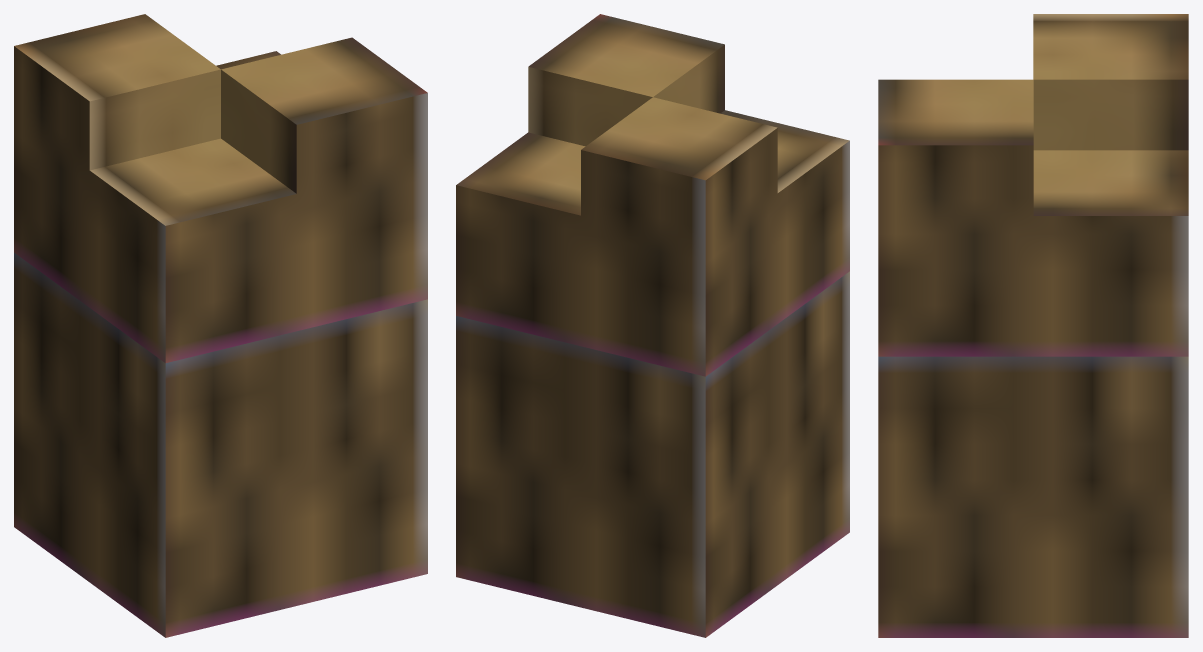
File: Tree_Destroy_Step5.fbx
3 renders of one model, left to right at view 1: azimuth 30°, elevation 25°; view 2: azimuth 150°, elevation 25°; view 3: azimuth 270°, elevation 25°, orthographic. The views are drawn at different scales.
Parts seen in each view (by area): view 1: Tree_Destroy_Step5; view 2: Tree_Destroy_Step5; view 3: Tree_Destroy_Step5.
Boxes of the visible parts, x1,y1,x2,y2 form: Tree_Destroy_Step5: (14,14,427,637); Tree_Destroy_Step5: (456,14,849,637); Tree_Destroy_Step5: (878,14,1188,637).
Bounding box in the file's own units: 25 × 43.79 × 25.
1 material, 1 textured.
